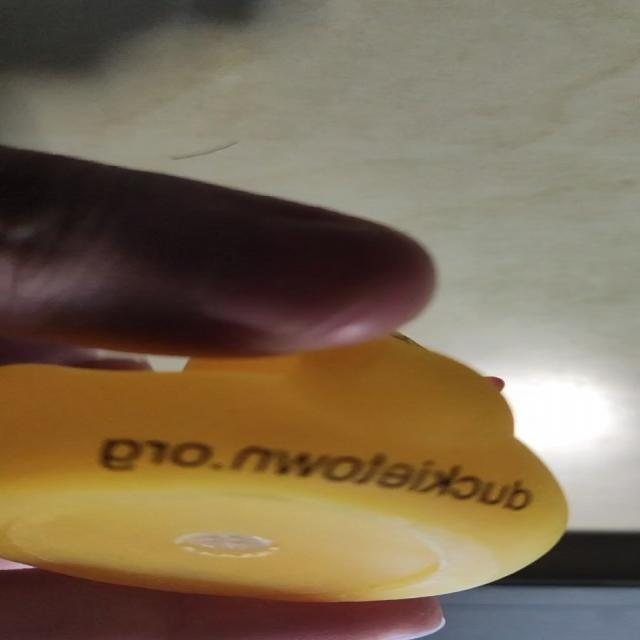rubber-duck: (0, 335, 565, 599)
